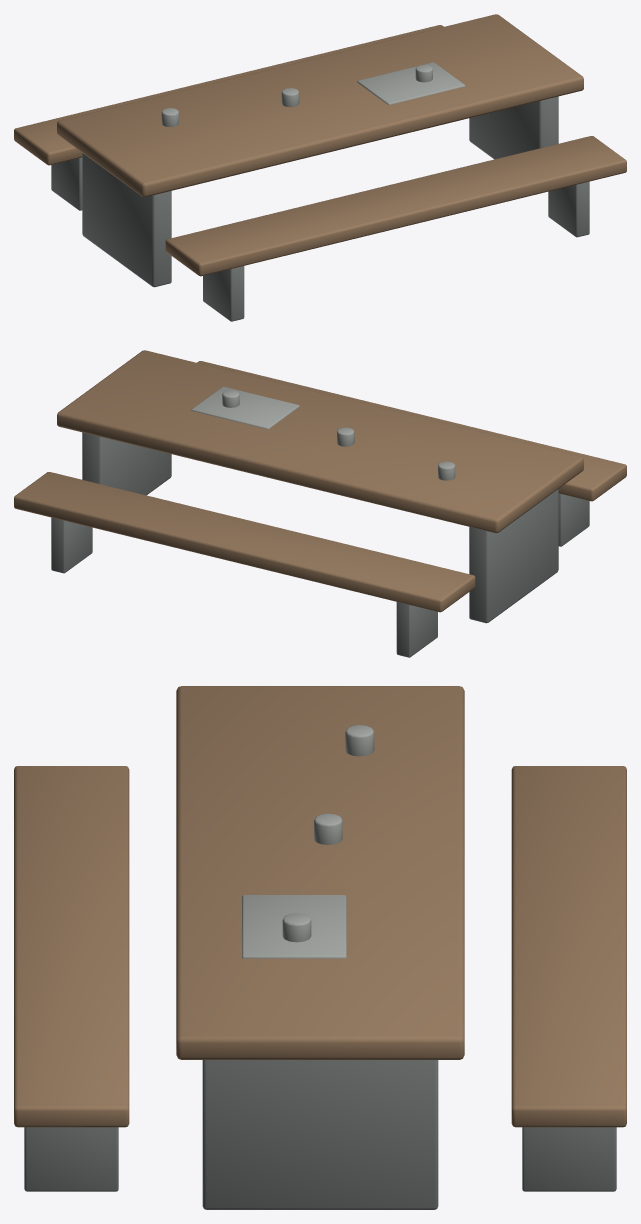
Rendered from hab_commons_v4.glb.
The picture shows the model from 3 angles, top to bottom: view 1: azimuth 30°, elevation 25°; view 2: azimuth 150°, elevation 25°; view 3: azimuth 270°, elevation 25°; orthographic projection. The views are drawn at different scales.
Visible parts, largest first — view 1: HabCommons; view 2: HabCommons; view 3: HabCommons.
Boxes of the visible parts, <box> form: HabCommons: <box>14,14,626,321</box>; HabCommons: <box>14,350,626,657</box>; HabCommons: <box>14,686,626,1209</box>.
Bounding box in the file's own units: 3.2 × 0.875 × 2.34.
